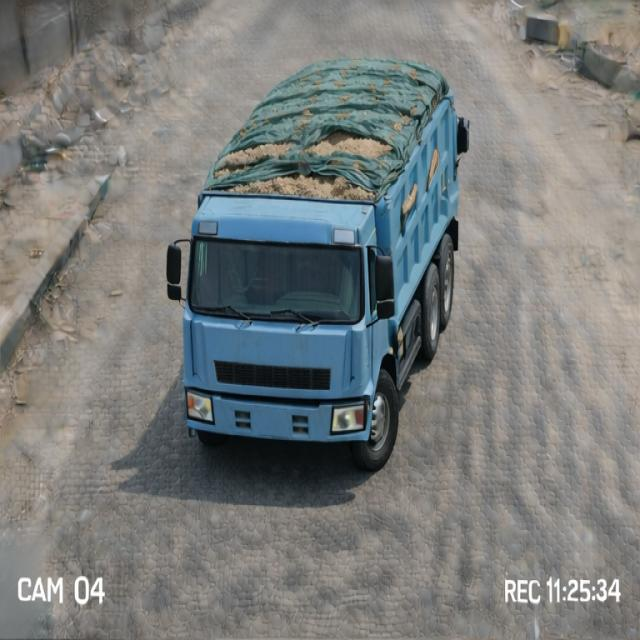trailer: (209, 63, 448, 208)
truck: (169, 50, 475, 469)
